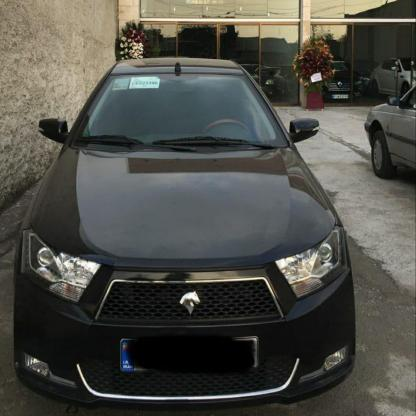Car: (12, 58, 358, 414), (364, 83, 416, 182), (316, 60, 360, 108), (373, 60, 416, 92)
